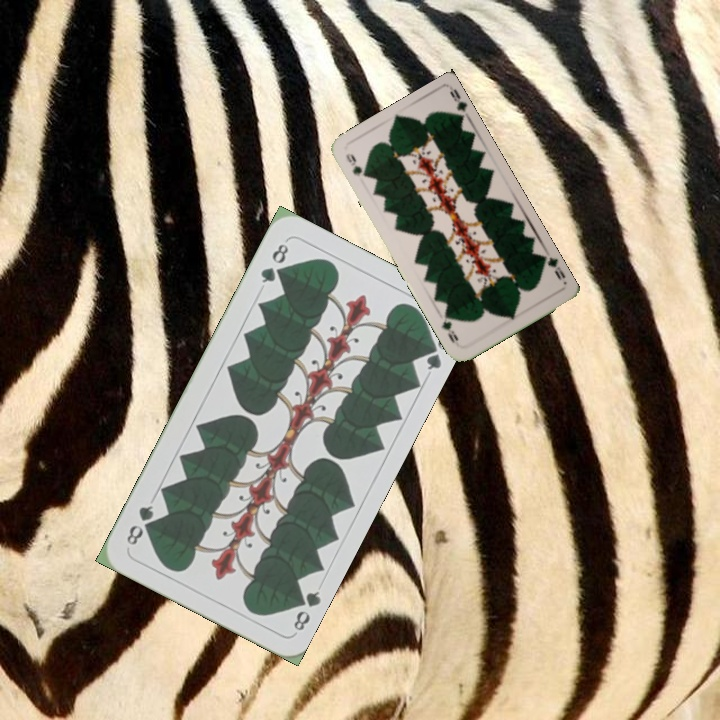G8: (288, 586, 324, 634), (256, 239, 291, 286)
G9: (537, 251, 568, 283), (342, 149, 371, 182)
